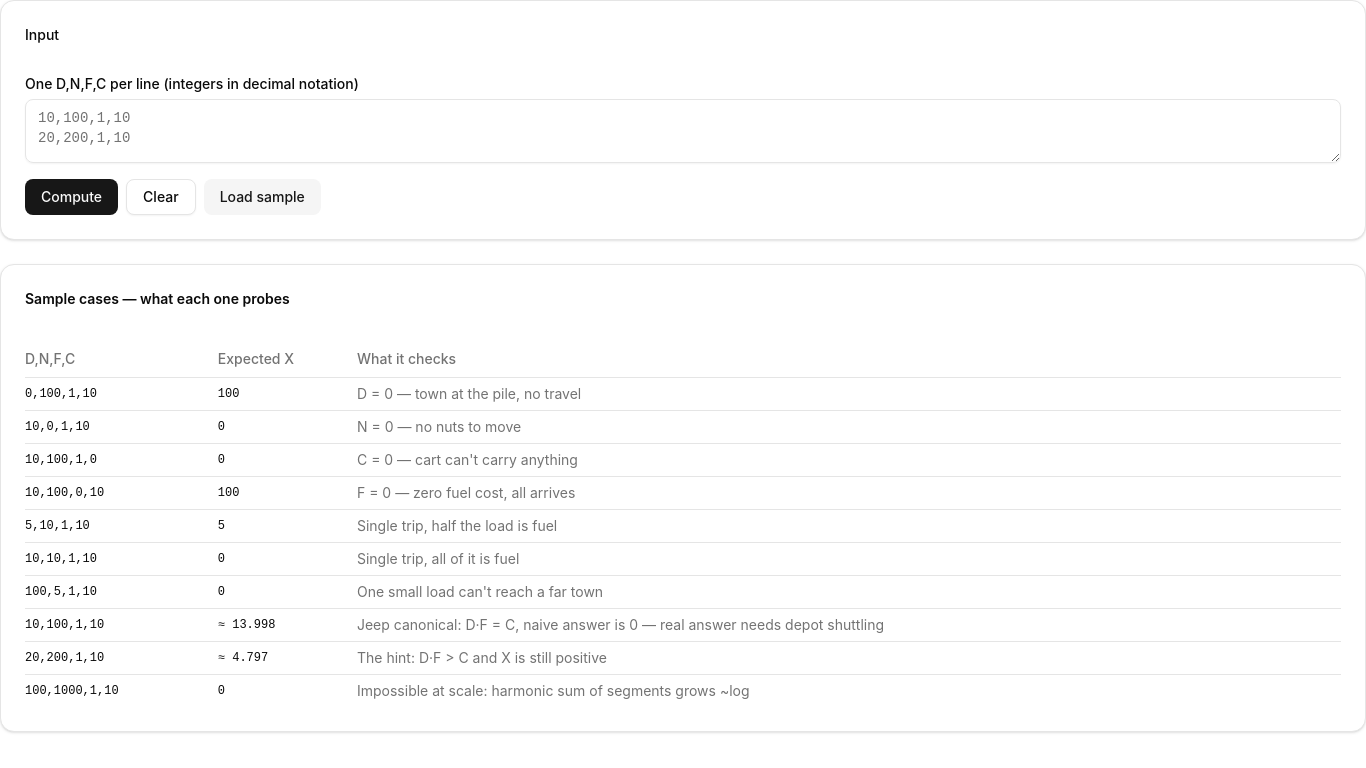
<NutForm /> › Clear empties both the textarea and the output
In the text box labelled "One D,N,F,C per line (integers in decimal notation)": (683, 131) x1=25 y1=99 x2=1341 y2=163, type "5,10,1,10"
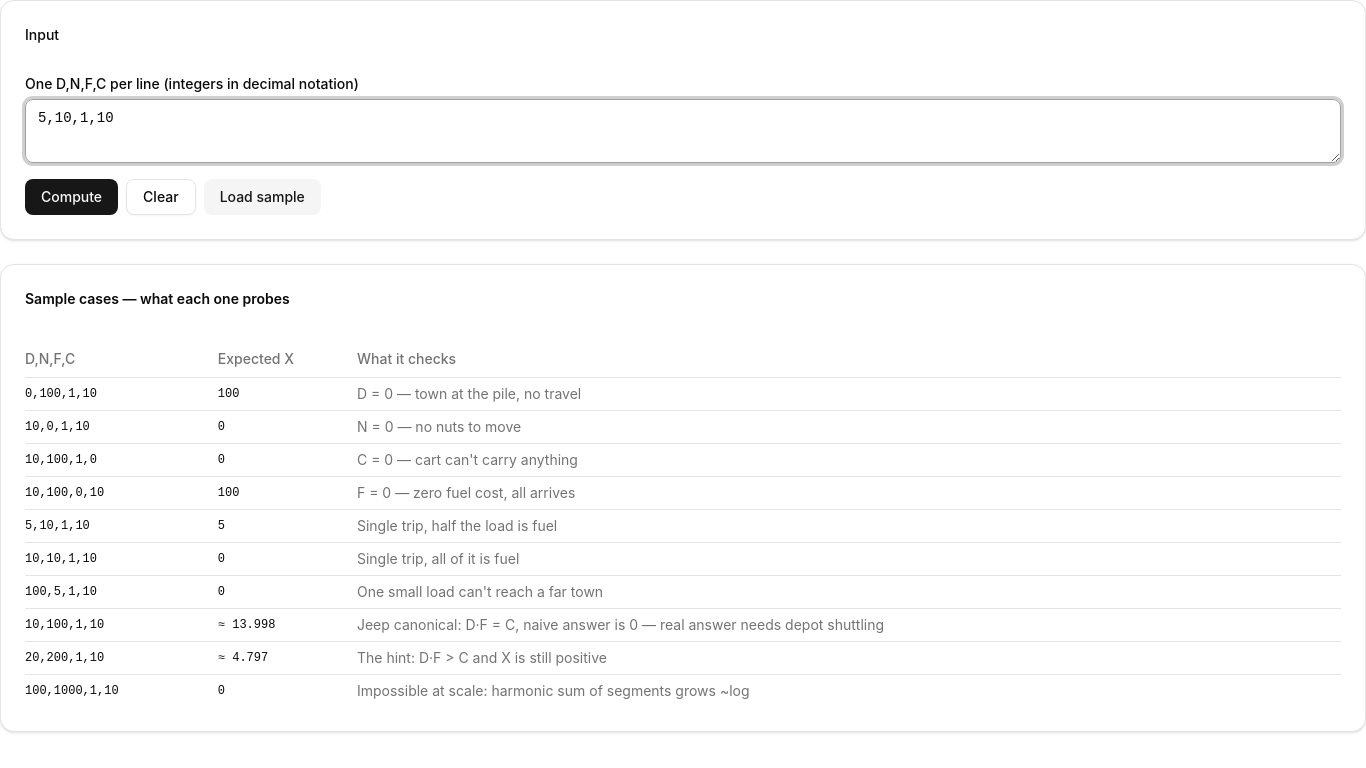
Click the button "Compute": (72, 197) x1=25 y1=179 x2=118 y2=215
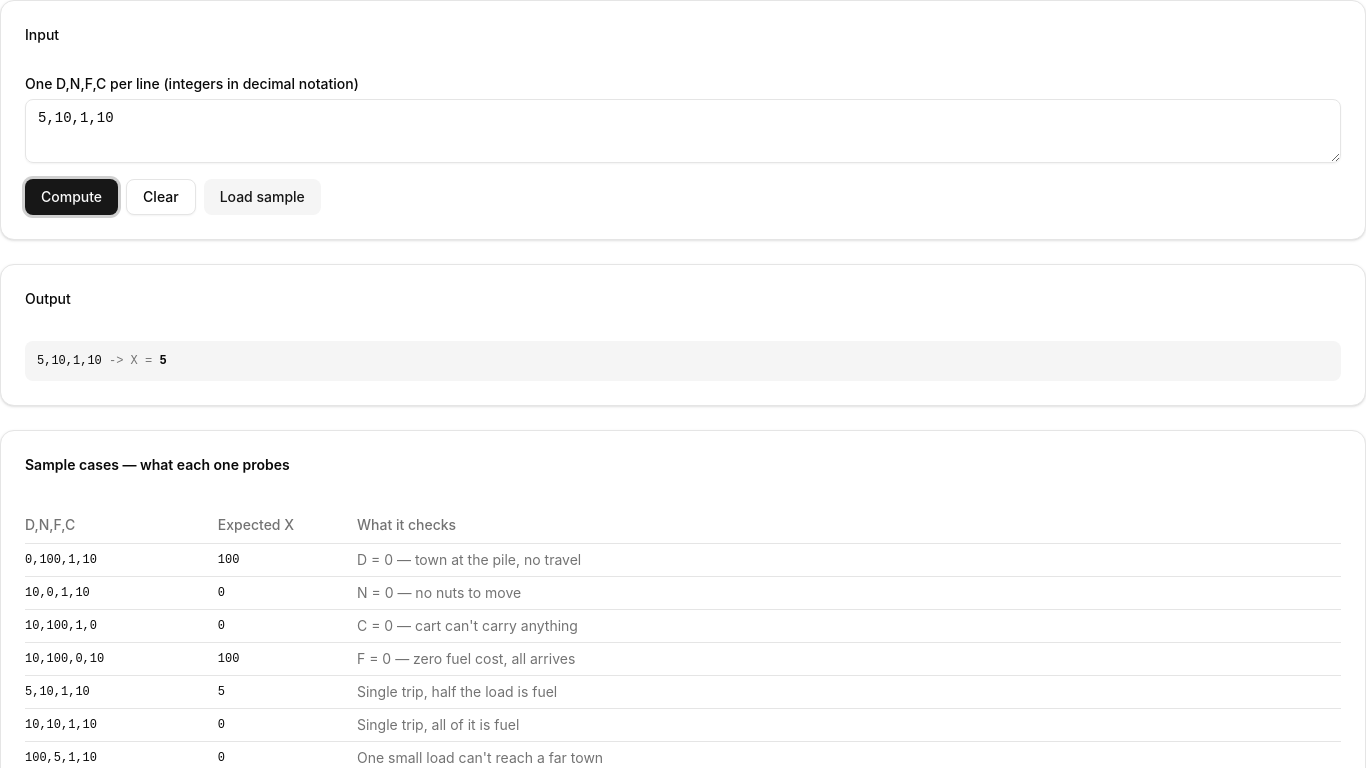
Expected: the element named "results" is shown, x1=25 y1=341 x2=1341 y2=381
Click the button "Clear": (161, 197) x1=126 y1=179 x2=196 y2=215
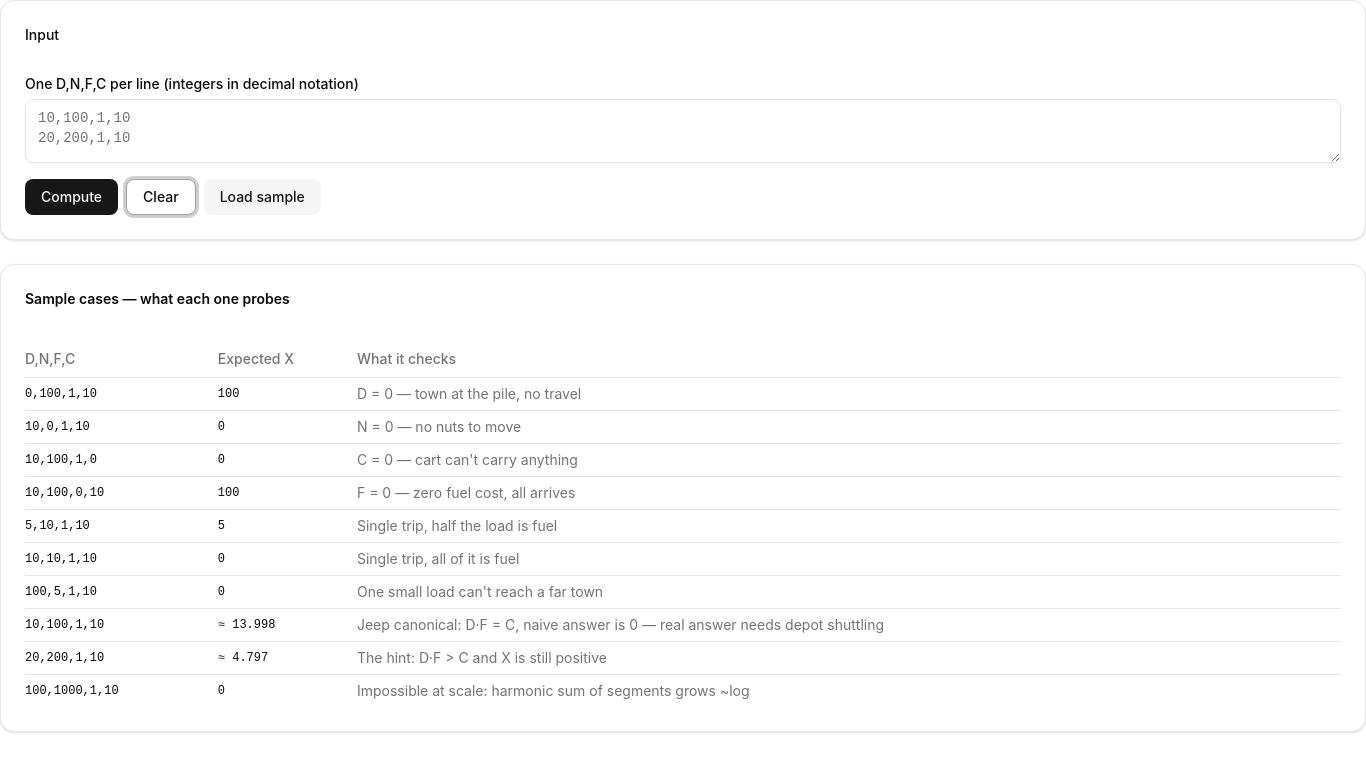
Expected: the text box labelled "One D,N,F,C per line (integers in decimal notation)" is empty, x1=25 y1=99 x2=1341 y2=163
Expected: the field labelled "results" is gone
